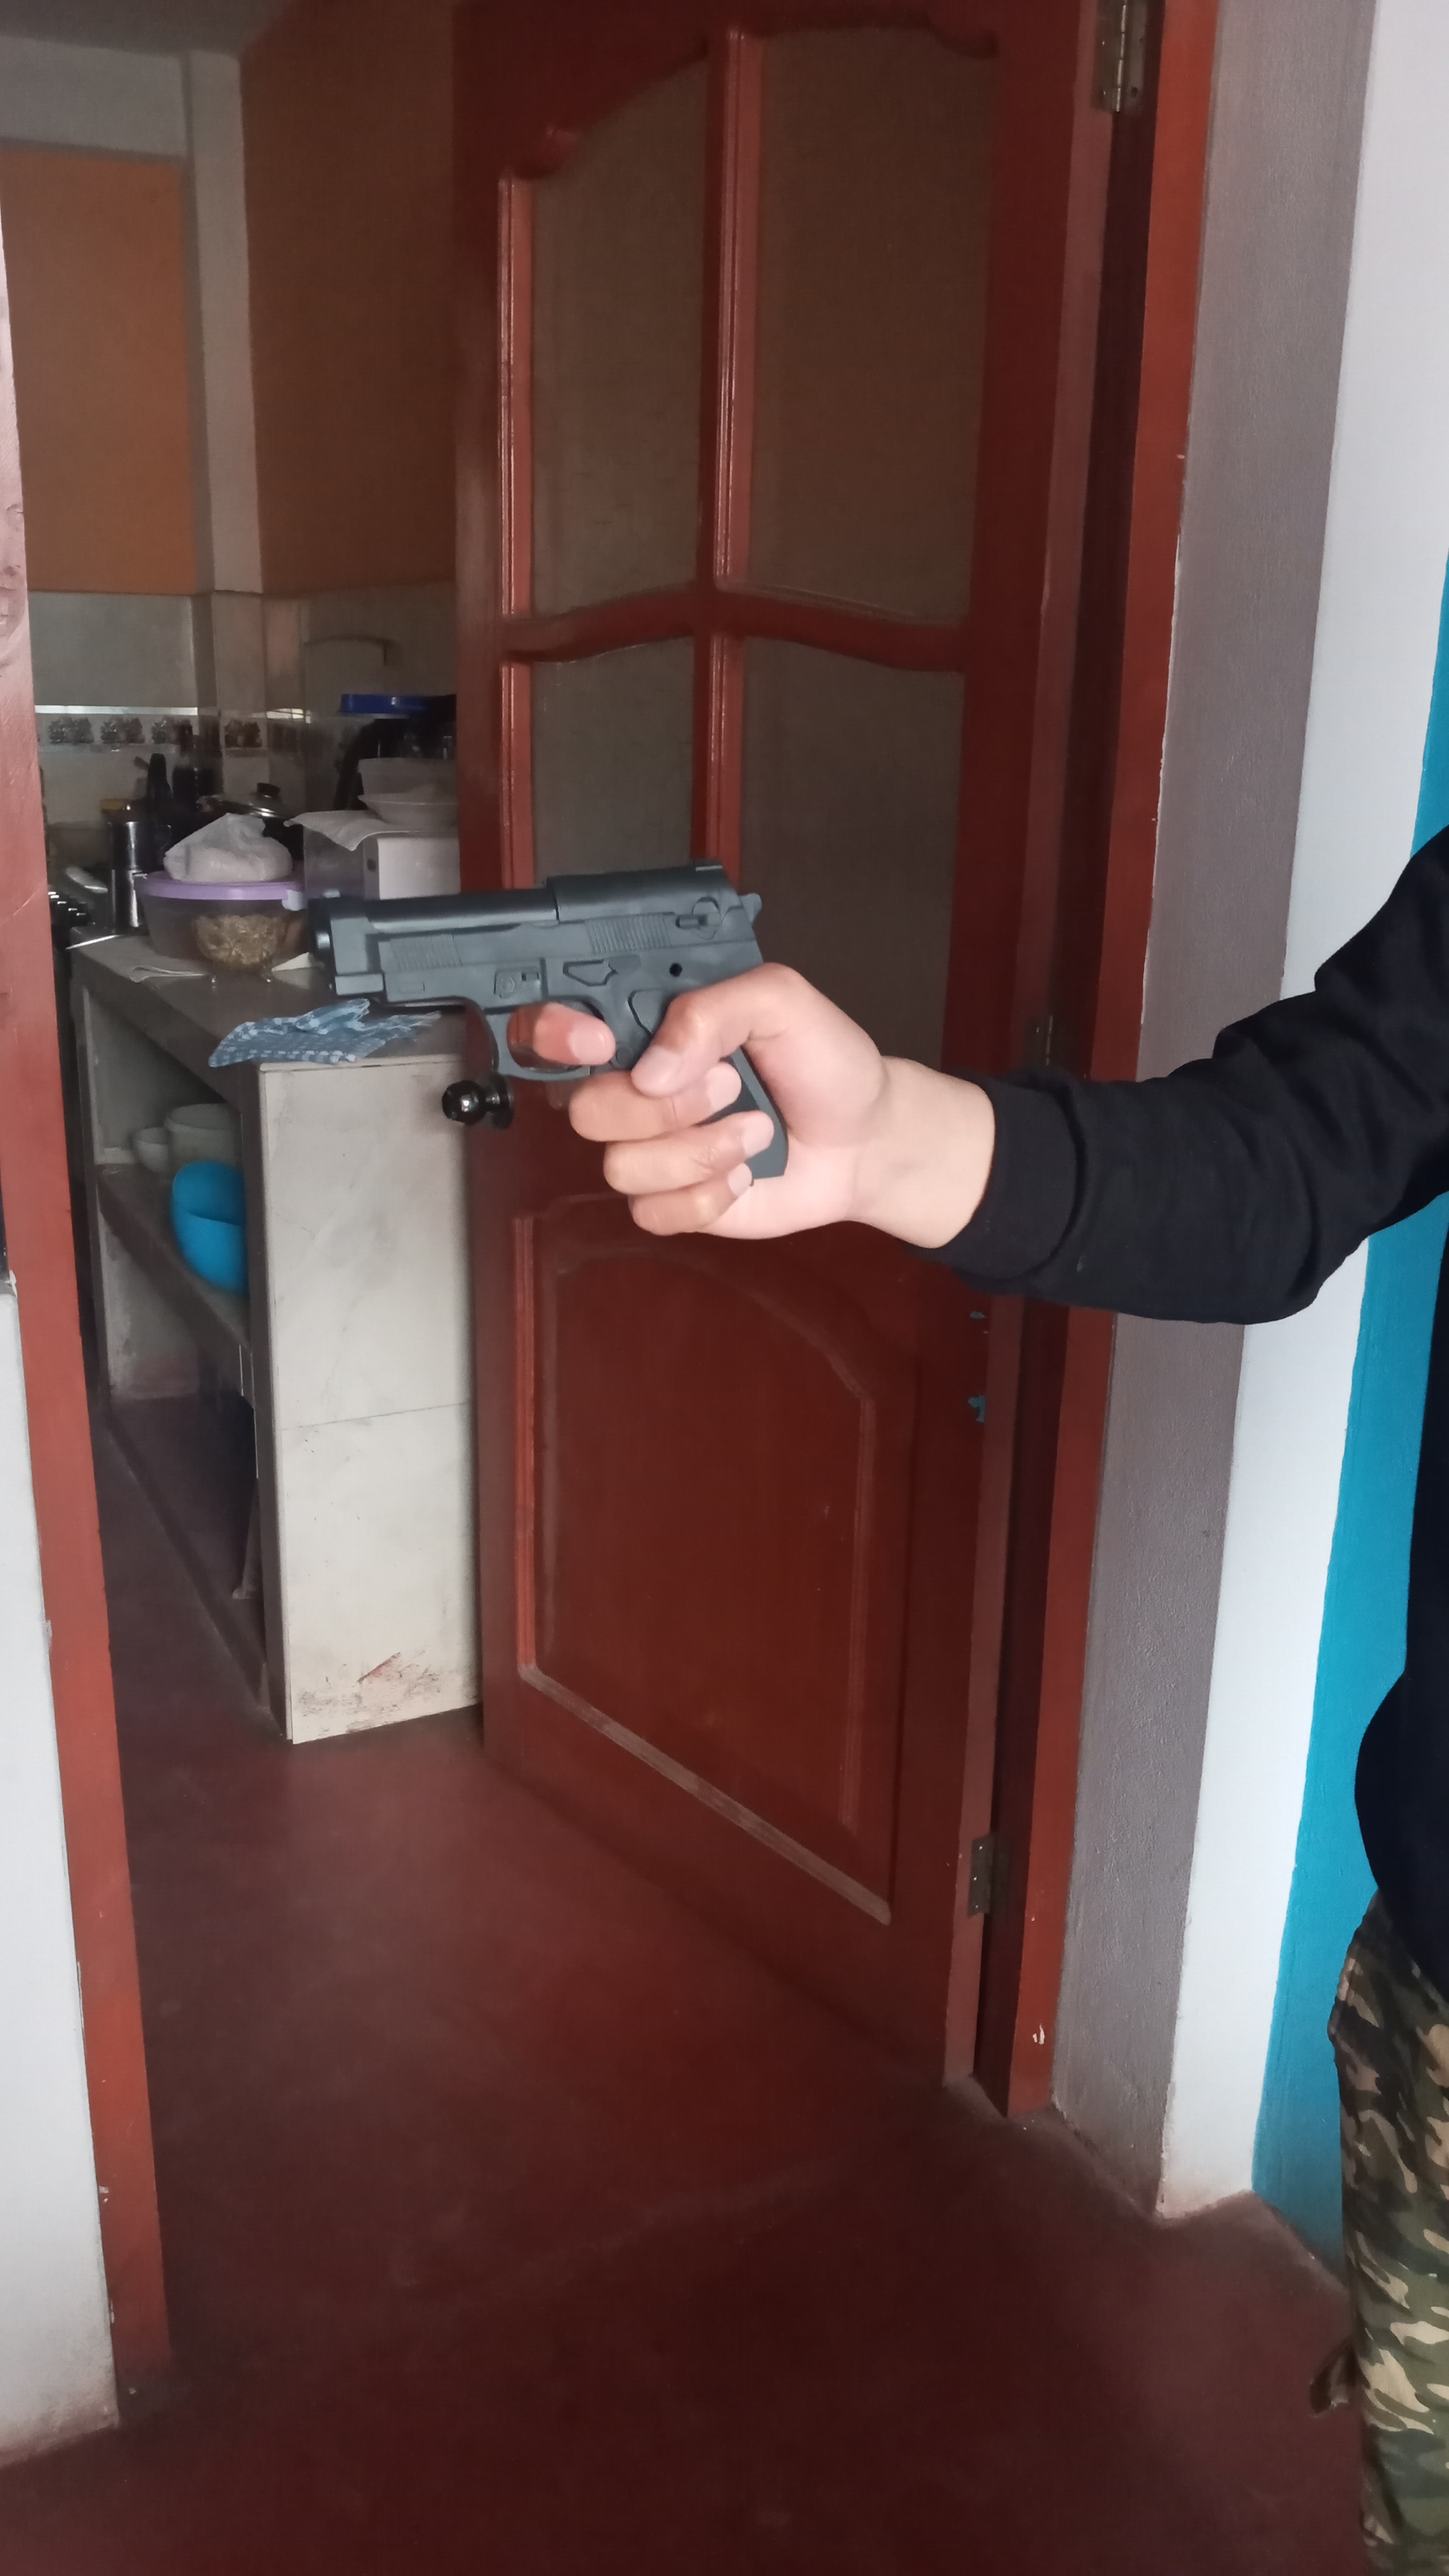Arma: (313, 883, 766, 1060)
